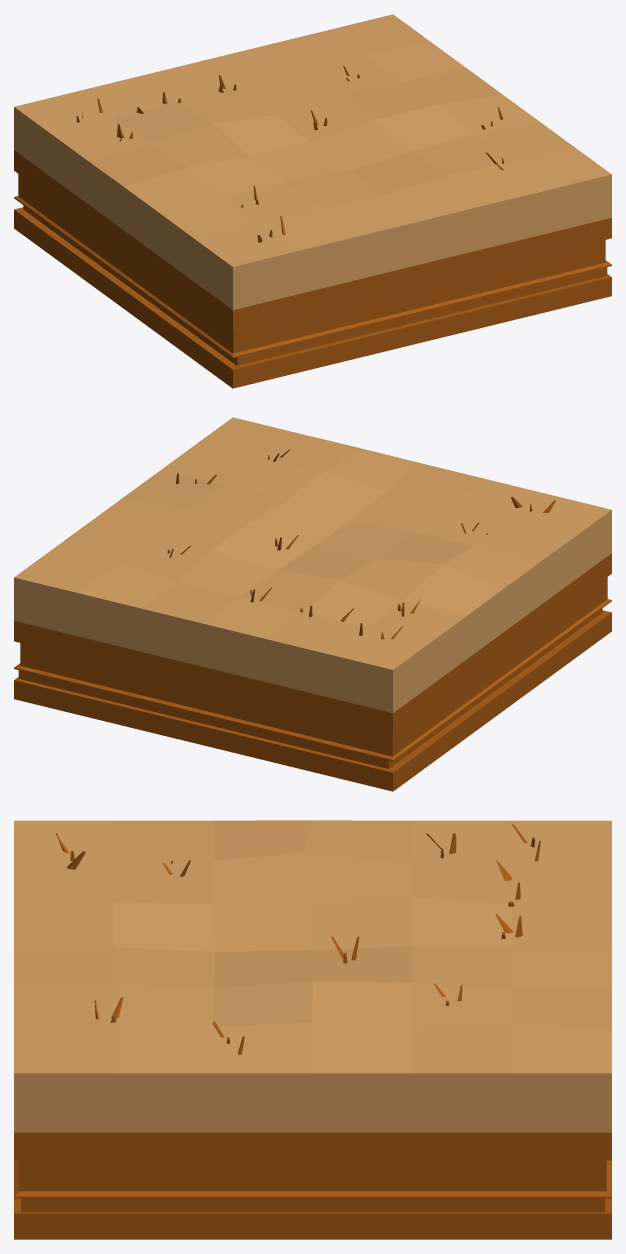
The model's file is Gator Siege_landbrown1.fbx.
The picture shows the model from 3 angles, top to bottom: view 1: azimuth 30°, elevation 25°; view 2: azimuth 150°, elevation 25°; view 3: azimuth 270°, elevation 25°; orthographic projection. The views are drawn at different scales.
Parts seen in each view (by area): view 1: land_brown1; view 2: land_brown1; view 3: land_brown1.
Part boxes in pixels (x1,y1,x2,y2): land_brown1: [14, 14, 611, 388]; land_brown1: [14, 417, 611, 791]; land_brown1: [14, 820, 611, 1239].
Bounding box in the file's own units: 0.3449 × 0.345 × 0.1188.
